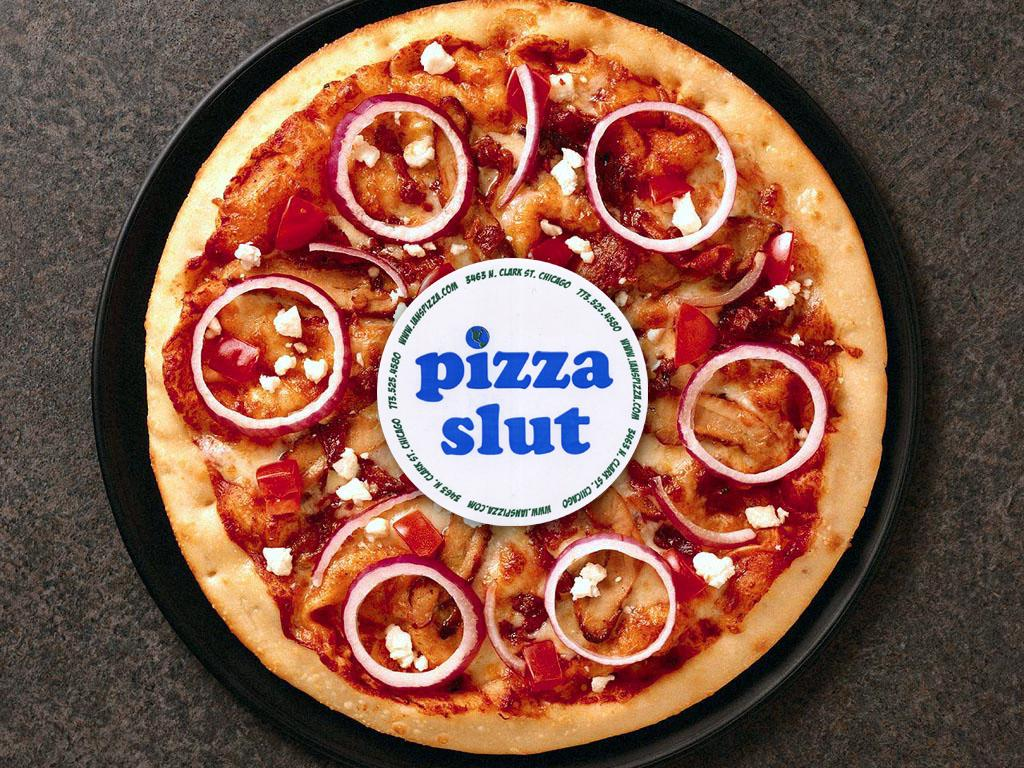Pizza: (144, 0, 897, 757)
